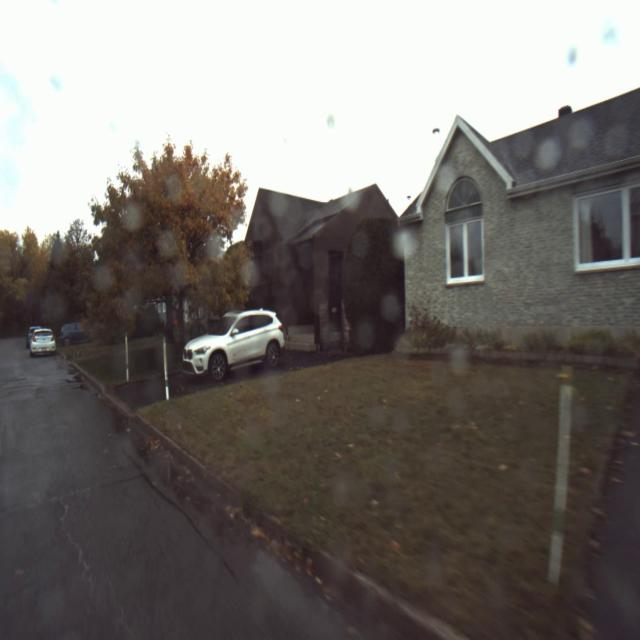car: (170, 297, 285, 381)
